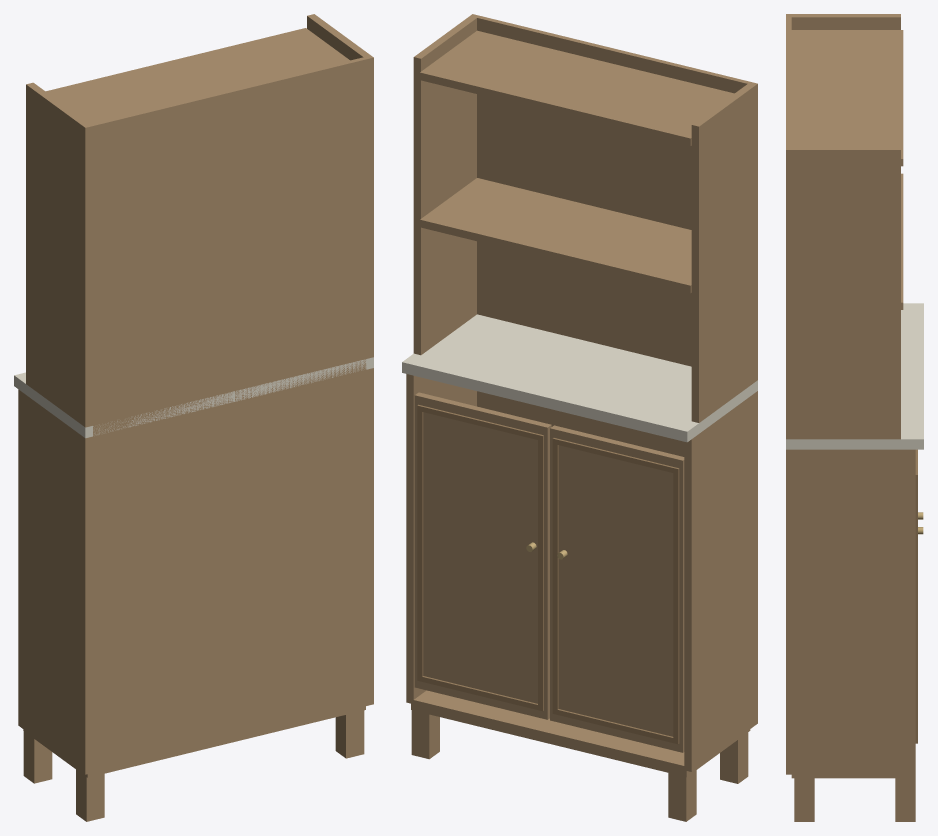
The model's file is parametric-narrow-service-dresser-2nd.glb.
3 renders of one model, left to right at view 1: azimuth 30°, elevation 25°; view 2: azimuth 150°, elevation 25°; view 3: azimuth 270°, elevation 25°, orthographic. The views are drawn at different scales.
Parts seen in each view (by area): view 1: parametric-narrow-service-dresser-2nd:joinery; view 2: parametric-narrow-service-dresser-2nd:joinery; view 3: parametric-narrow-service-dresser-2nd:joinery.
Part boxes in pixels (box(x1,y1,x2,y2)): parametric-narrow-service-dresser-2nd:joinery: box(14, 14, 373, 821); parametric-narrow-service-dresser-2nd:joinery: box(402, 14, 757, 821); parametric-narrow-service-dresser-2nd:joinery: box(786, 14, 923, 821).
Size of the model in its own units: 0.7 by 1.62 by 0.3.
